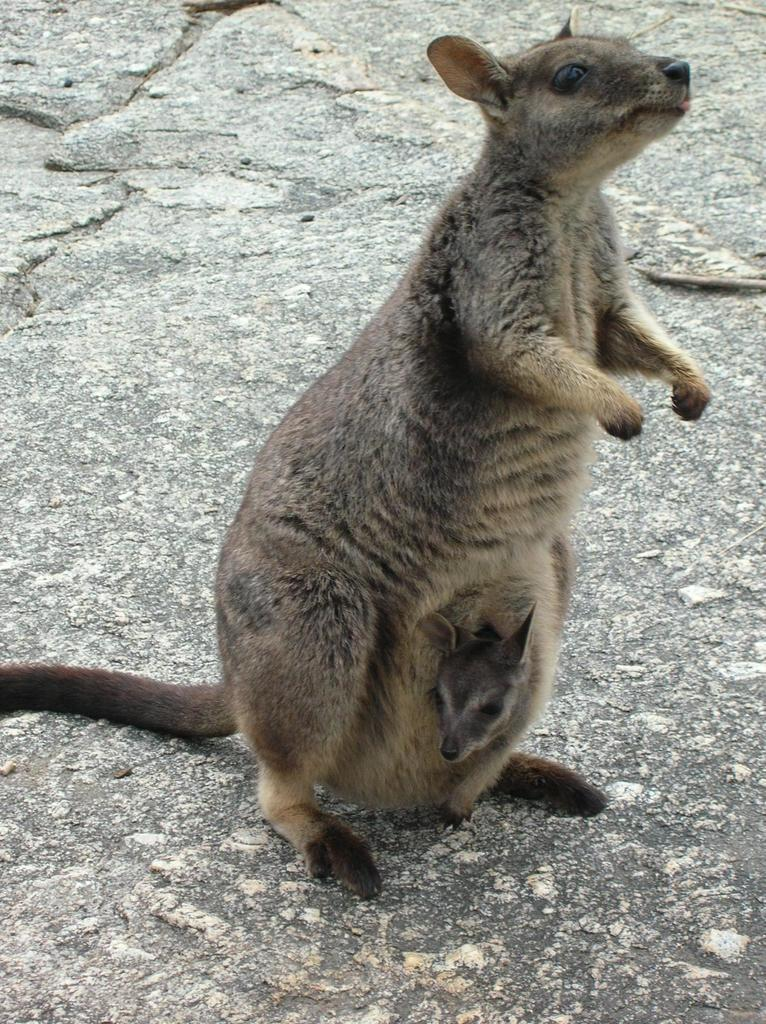kangaroo: (0, 4, 714, 892)
